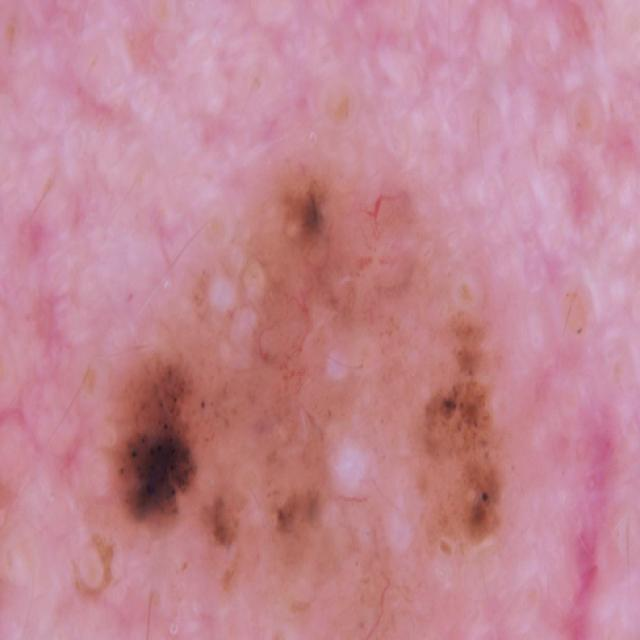Carcinoma: (70, 135, 545, 640)
